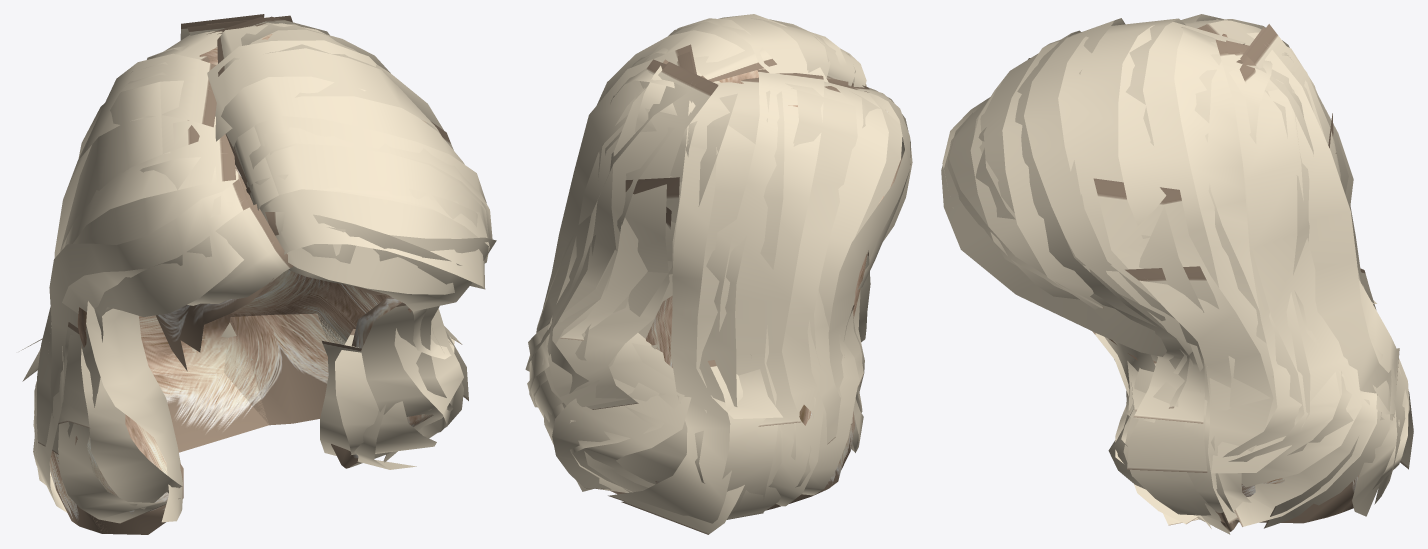
Rendered from hair_006.obj.
The picture shows the model from 3 angles, left to right: view 1: azimuth 30°, elevation 25°; view 2: azimuth 150°, elevation 25°; view 3: azimuth 270°, elevation 25°; orthographic projection. The views are drawn at different scales.
Bounding box in the file's own units: 22.52 × 28.71 × 26.6.
